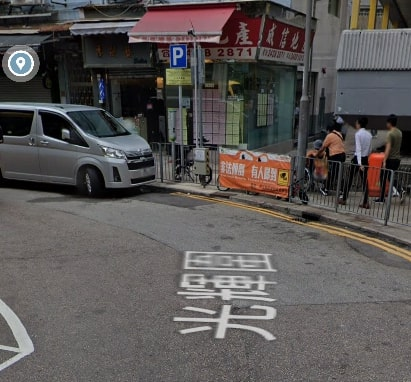Parking: (167, 44, 189, 71)
